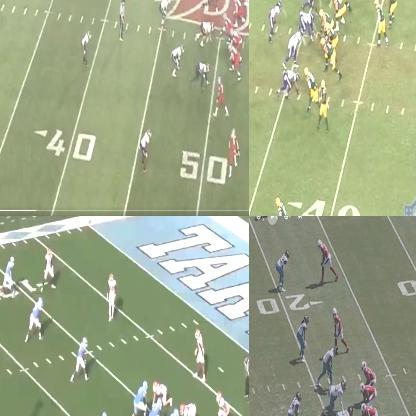CENTER: (318, 9, 334, 40), (219, 12, 232, 40), (358, 400, 373, 415), (165, 407, 182, 415)
DB: (276, 251, 290, 293), (108, 272, 118, 322), (298, 315, 309, 358), (44, 248, 56, 286), (141, 130, 149, 170), (81, 32, 89, 64)
LB: (319, 348, 339, 380), (194, 328, 206, 381), (268, 0, 281, 38), (287, 29, 301, 62), (218, 389, 231, 415), (170, 47, 182, 74), (159, 0, 171, 23), (288, 392, 300, 415)
QB: (375, 0, 389, 45)
SKILL: (318, 238, 338, 282), (27, 297, 45, 339), (76, 334, 90, 378), (331, 307, 345, 350), (216, 76, 228, 116), (305, 70, 315, 110), (320, 82, 329, 126), (273, 198, 296, 215), (230, 132, 240, 170), (3, 256, 15, 286), (385, 0, 398, 27)
